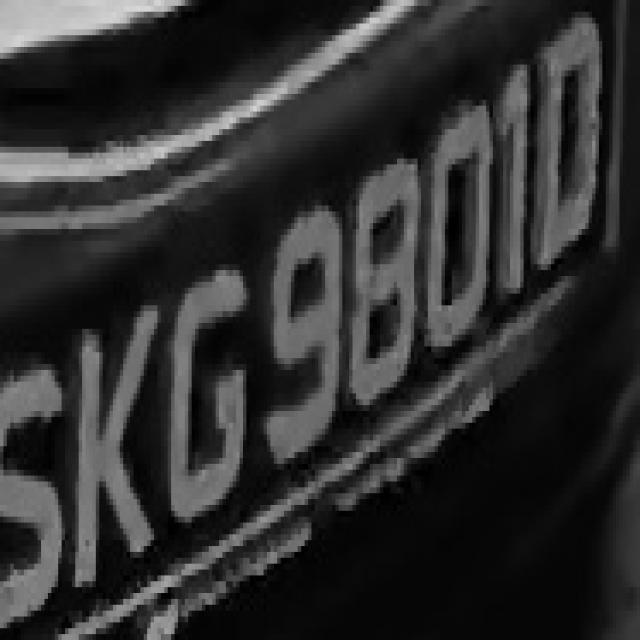0: (424, 94, 493, 346)
1: (493, 59, 537, 311)
8: (346, 153, 424, 405)
9: (264, 193, 349, 470)
D: (538, 24, 602, 270)
G: (158, 247, 260, 534)
K: (65, 299, 161, 593)
S: (4, 341, 68, 634)
